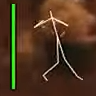hacks_2: (10, 3, 84, 90)
